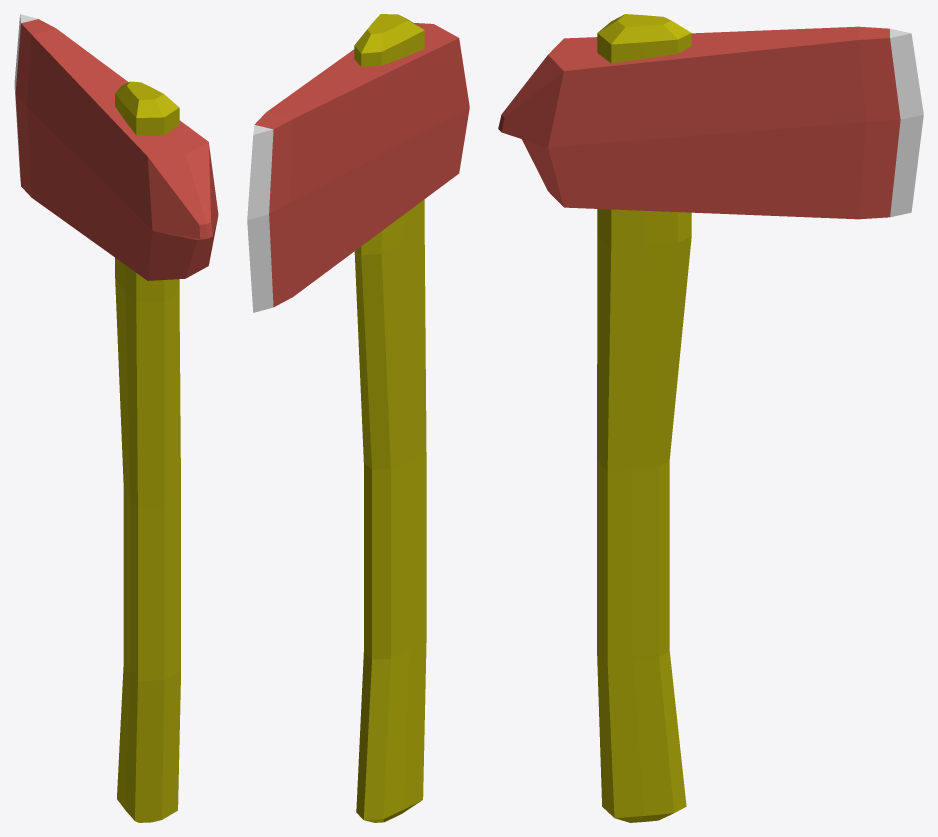
File: Axe.fbx
3 renders of one model, left to right at view 1: azimuth 30°, elevation 25°; view 2: azimuth 150°, elevation 25°; view 3: azimuth 270°, elevation 25°, orthographic. The views are drawn at different scales.
Visible parts, largest first — view 1: Axe; view 2: Axe; view 3: Axe.
Boxes of the visible parts, x1=… form: Axe: x1=14, y1=14, x2=218, y2=822; Axe: x1=247, y1=14, x2=469, y2=822; Axe: x1=498, y1=14, x2=923, y2=822.
Bounding box in the file's own units: 1.13 × 11.88 × 5.75.
